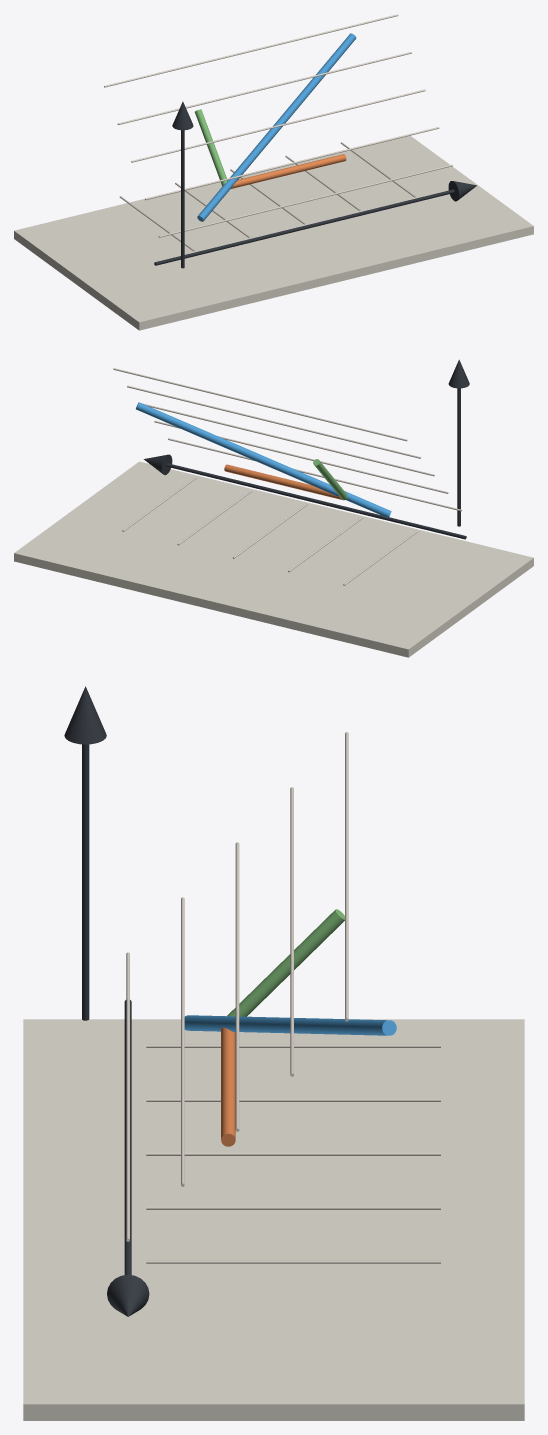
Rendered from math-advanced-slope.glb.
3 views of the same model, one above another, from view 1: azimuth 30°, elevation 25°; view 2: azimuth 150°, elevation 25°; view 3: azimuth 270°, elevation 25° (orthographic). The views are drawn at different scales.
Visible parts, largest first — view 1: advanced-math-base, slope-line, slope-x-axis-shaft, run-step, slope-horizontal-grid-5, slope-horizontal-grid-3, slope-horizontal-grid-1, slope-horizontal-grid-2, slope-horizontal-grid-4, rise-step, slope-y-axis-shaft; view 2: advanced-math-base, slope-line, slope-x-axis-shaft, run-step, slope-horizontal-grid-4, slope-horizontal-grid-5, slope-horizontal-grid-3, slope-horizontal-grid-2, slope-horizontal-grid-1, slope-y-axis-shaft, rise-step, slope-y-axis-head; view 3: advanced-math-base, slope-line, slope-y-axis-shaft, rise-step, run-step, slope-x-axis-shaft, slope-horizontal-grid-3, slope-y-axis-head, slope-x-axis-head, slope-vertical-grid-4, slope-vertical-grid-5, slope-vertical-grid-3 (+6 smaller).
Part boxes in pixels (<box>): advanced-math-base: <box>14,135,533,330</box>; slope-line: <box>197,33,356,221</box>; slope-x-axis-shaft: <box>154,189,454,265</box>; run-step: <box>231,154,346,188</box>; slope-horizontal-grid-5: <box>104,14,398,87</box>; slope-horizontal-grid-3: <box>131,89,425,162</box>; slope-horizontal-grid-1: <box>158,164,452,237</box>; slope-horizontal-grid-2: <box>145,127,439,200</box>; slope-horizontal-grid-4: <box>117,52,411,124</box>; rise-step: <box>194,109,227,185</box>; slope-y-axis-shaft: <box>181,130,184,268</box>; advanced-math-base: <box>14,461,533,657</box>; slope-line: <box>136,402,391,518</box>; slope-x-axis-shaft: <box>166,463,466,539</box>; run-step: <box>224,464,344,500</box>; slope-horizontal-grid-4: <box>127,385,420,458</box>; slope-horizontal-grid-5: <box>113,368,407,441</box>; slope-horizontal-grid-3: <box>142,403,434,476</box>; slope-horizontal-grid-2: <box>154,420,448,493</box>; slope-horizontal-grid-1: <box>168,438,462,511</box>; slope-y-axis-shaft: <box>457,388,460,526</box>; rise-step: <box>313,459,347,499</box>; slope-y-axis-head: <box>448,359,469,388</box>; advanced-math-base: <box>23,1019,524,1420</box>; slope-line: <box>184,1015,396,1035</box>; slope-y-axis-shaft: <box>82,744,89,1020</box>; rise-step: <box>227,909,344,1016</box>; run-step: <box>221,1027,235,1146</box>; slope-x-axis-shaft: <box>124,1000,131,1274</box>; slope-horizontal-grid-3: <box>235,842,239,1131</box>; slope-y-axis-head: <box>64,686,106,744</box>; slope-x-axis-head: <box>107,1274,149,1316</box>; slope-vertical-grid-4: <box>146,1206,440,1209</box>; slope-vertical-grid-5: <box>146,1260,440,1263</box>; slope-vertical-grid-3: <box>146,1152,440,1155</box>.
Size of what is drawn, in the model's own units: 3 by 1.48 by 1.65.
